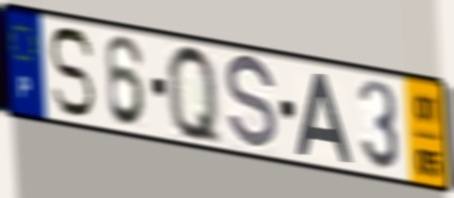3: (356, 77, 402, 173)
6: (103, 33, 147, 131)
A: (294, 69, 355, 167)
Q: (163, 39, 225, 152)
S: (223, 53, 280, 156), (46, 24, 97, 121)
